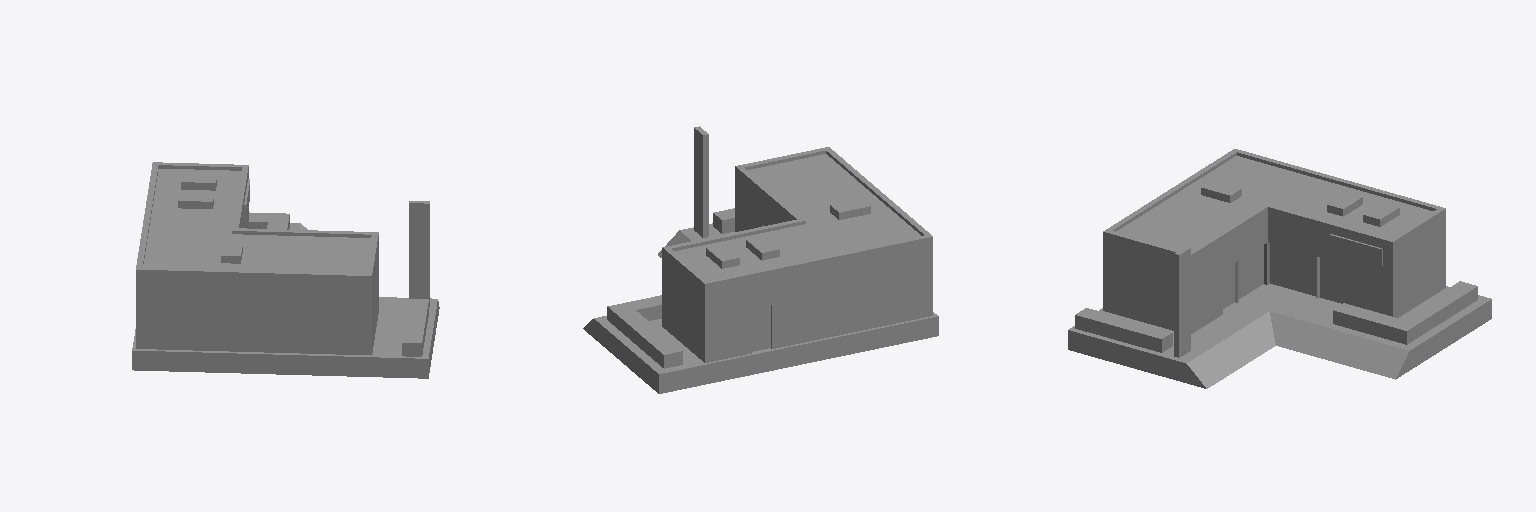
File: BuildingOBJ4.obj
3 renders of one model, left to right at view 1: azimuth 30°, elevation 25°; view 2: azimuth 150°, elevation 25°; view 3: azimuth 270°, elevation 25°, orthographic.
Visible parts, largest first — view 1: cabin_004.000_Untitled.000; view 2: cabin_004.000_Untitled.000; view 3: cabin_004.000_Untitled.000.
Boxes of the visible parts, <box> form: cabin_004.000_Untitled.000: <box>132,162,439,378</box>; cabin_004.000_Untitled.000: <box>583,126,938,393</box>; cabin_004.000_Untitled.000: <box>1068,149,1491,388</box>.
Bounding box in the file's own units: 6.02 × 2.4 × 7.51.